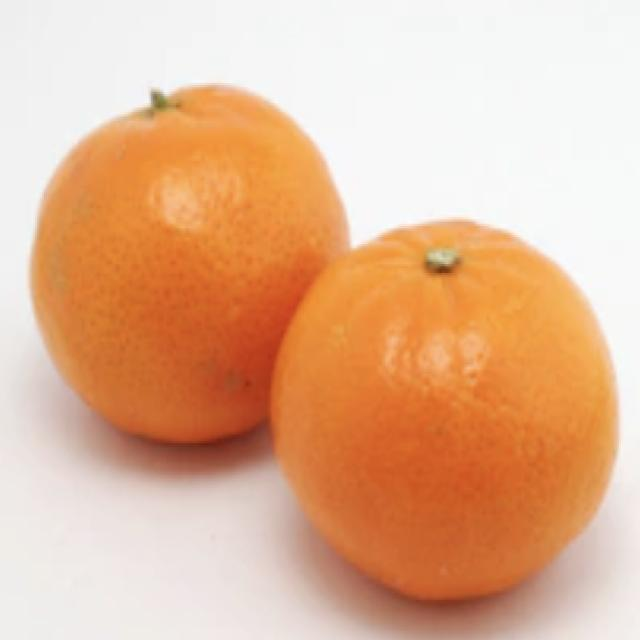orange: (267, 205, 617, 620), (31, 79, 361, 462)
